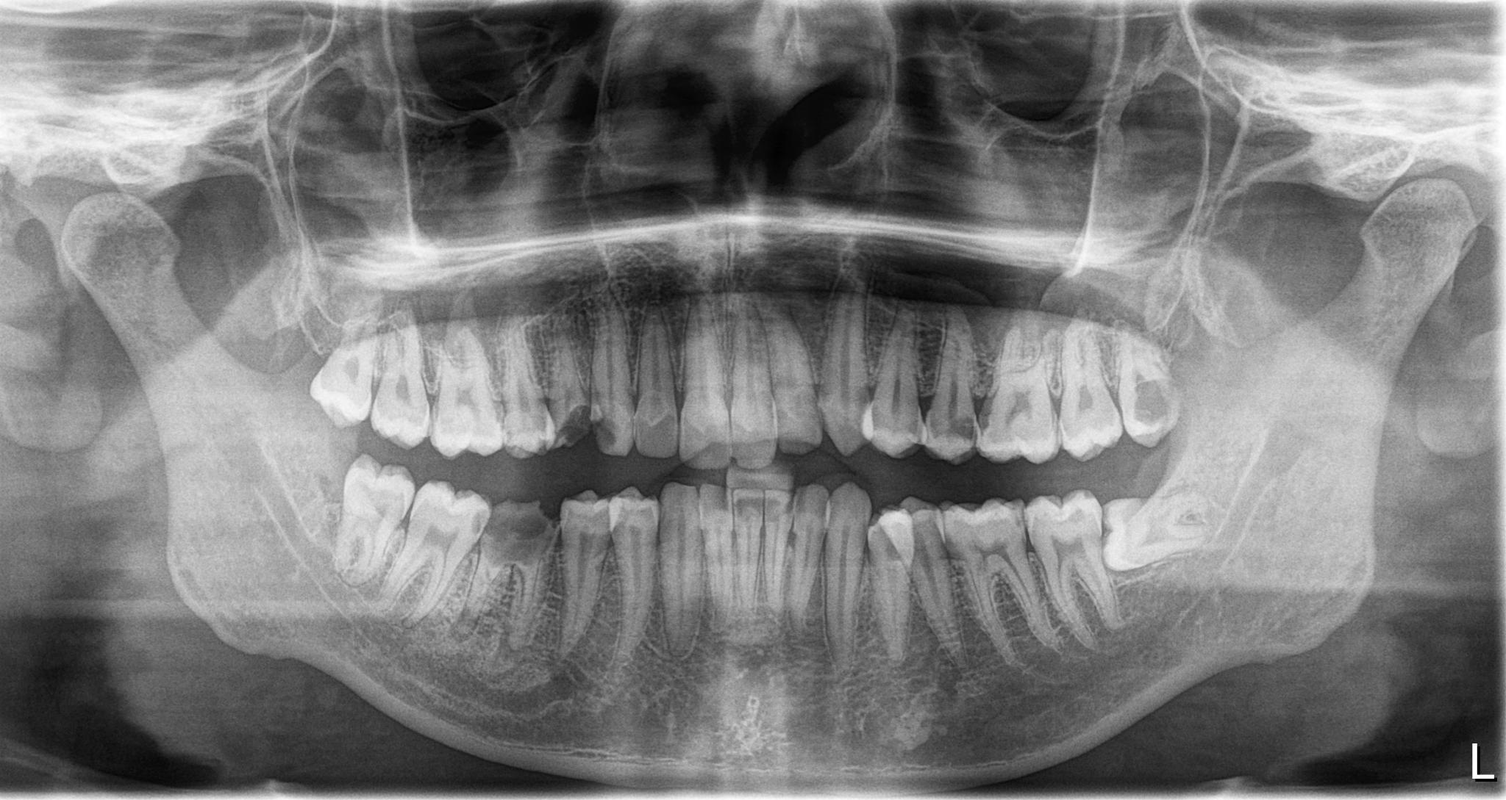Dental Caries: (553, 395, 618, 454), (489, 511, 555, 567), (1123, 369, 1173, 431), (938, 413, 982, 450)
Impacted Third Molar: (1101, 500, 1226, 573)
